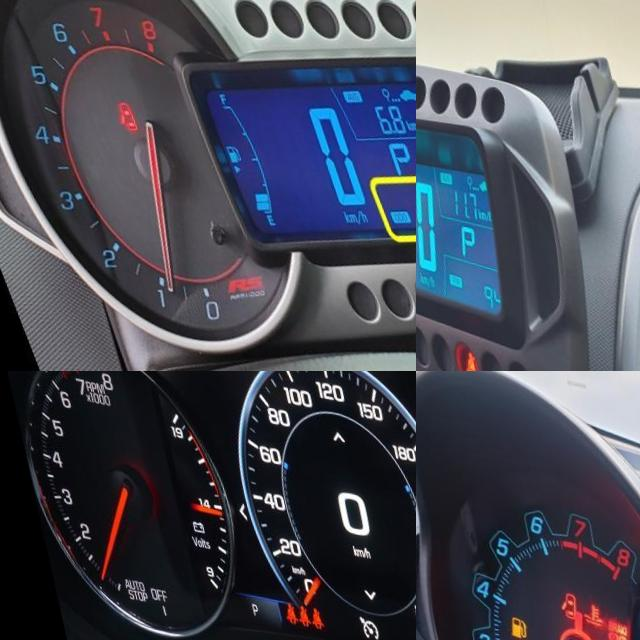Doors: (98, 92, 123, 126), (542, 582, 567, 614)
Engine cooling system: (565, 592, 594, 620)
Low fuel level: (492, 609, 516, 636)
